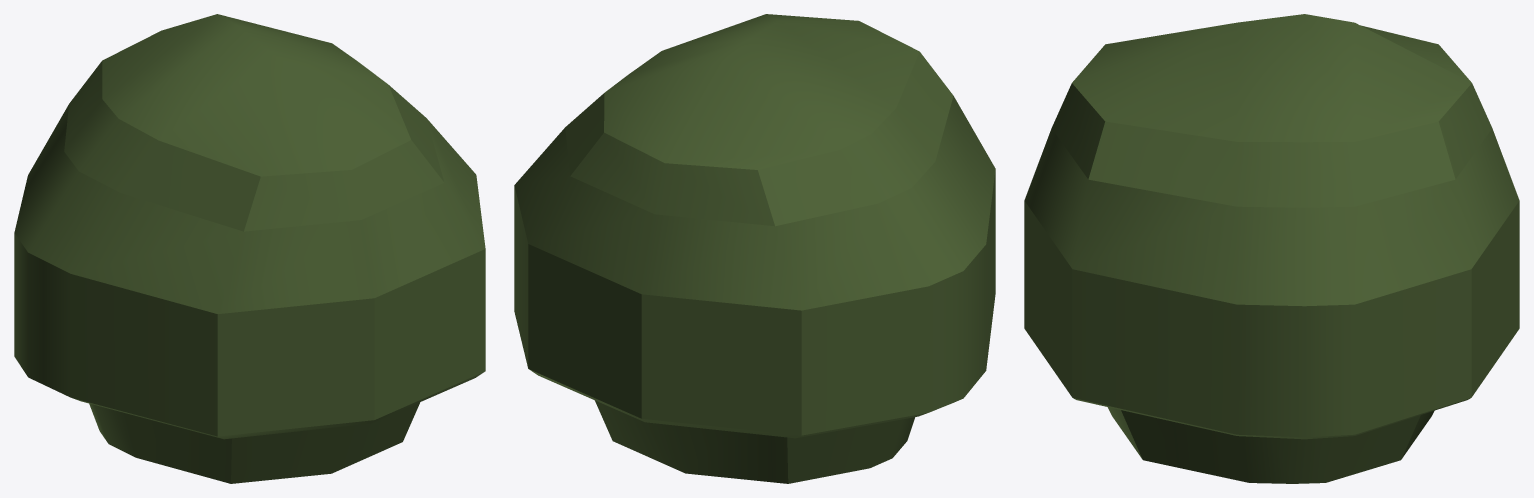
The model's file is Proto_Bush_03.fbx.
The picture shows the model from 3 angles, left to right: view 1: azimuth 30°, elevation 25°; view 2: azimuth 150°, elevation 25°; view 3: azimuth 270°, elevation 25°; orthographic projection. The views are drawn at different scales.
Parts seen in each view (by area): view 1: Bush_03; view 2: Bush_03; view 3: Bush_03.
Boxes of the visible parts, box(x1,y1,x2,y2) form: Bush_03: box(14, 14, 485, 483); Bush_03: box(514, 14, 995, 483); Bush_03: box(1024, 14, 1519, 483).
Bounding box in the file's own units: 12.1 × 10.52 × 11.78.
